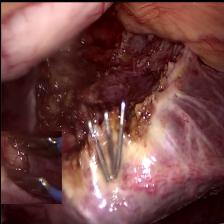Bipolar: (0, 130, 61, 203)
